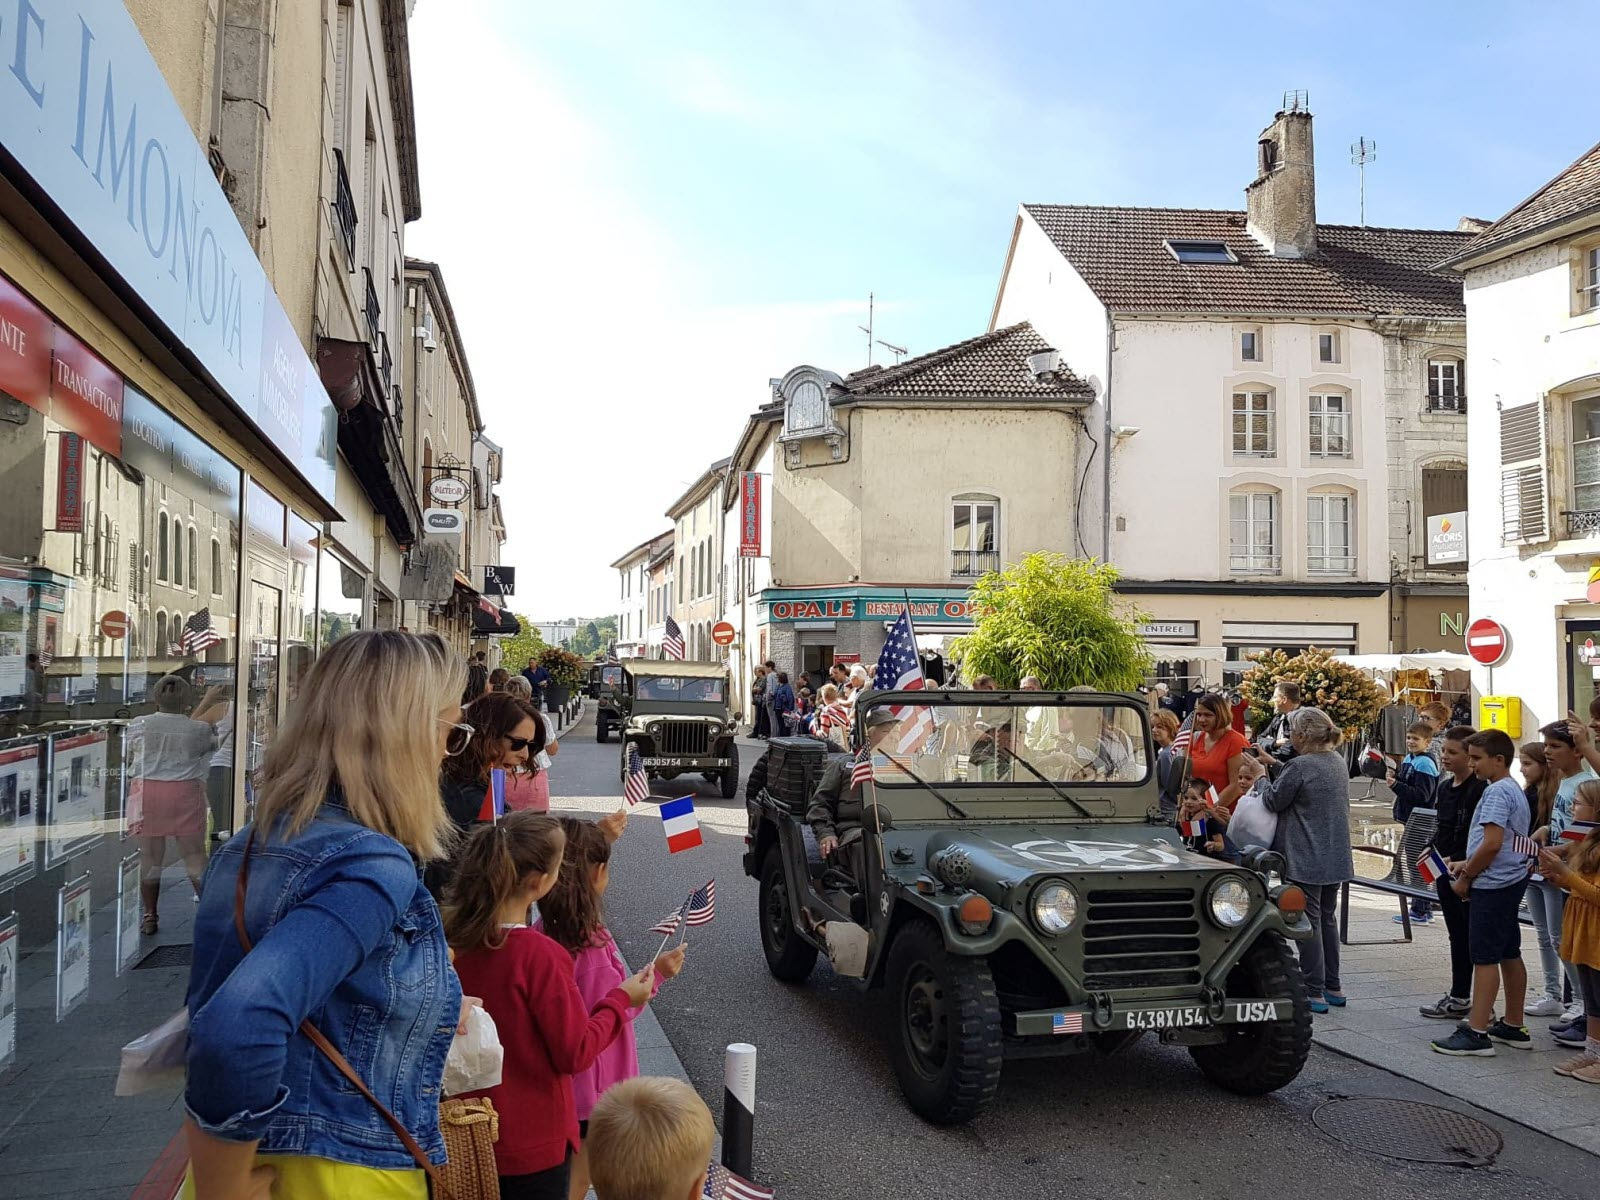license_plate: (1122, 1008, 1210, 1042)
